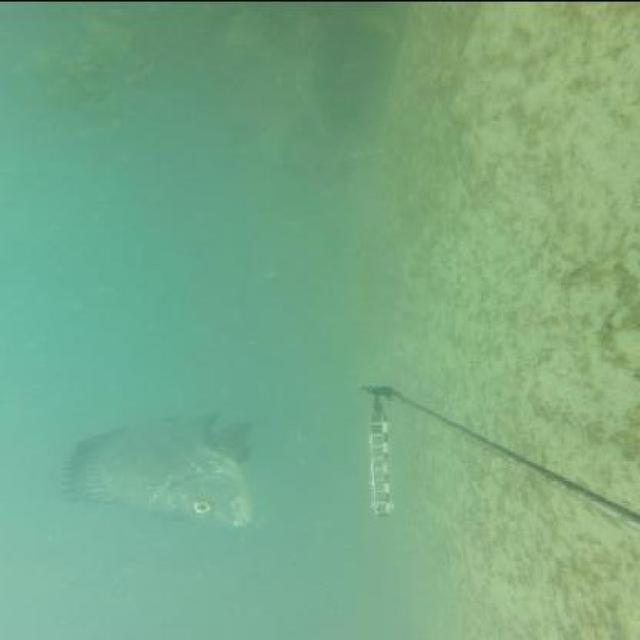acanthopagrus_palmaris: (57, 406, 268, 529)
